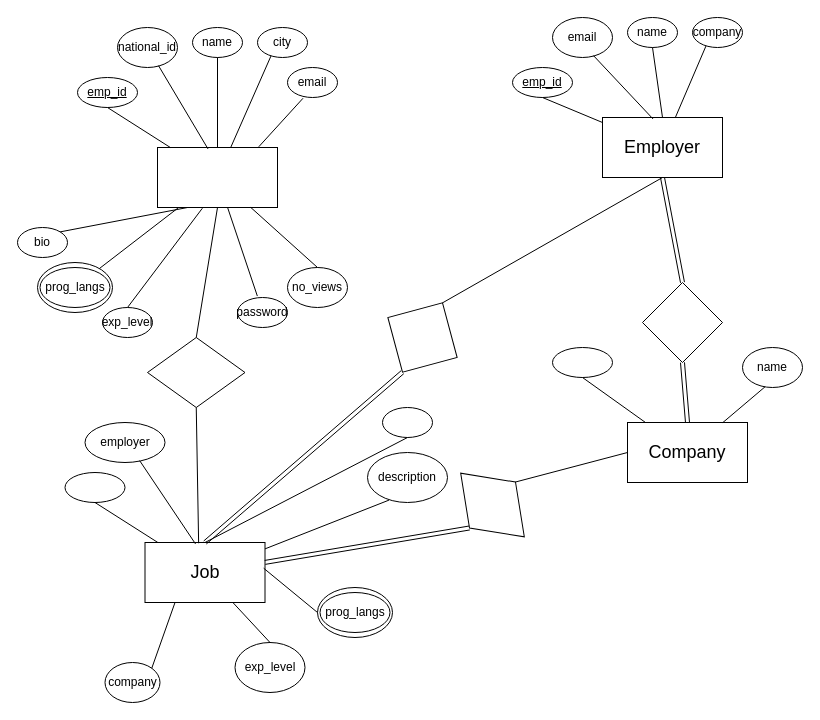
The diagram is 820 pixels wide and 720 high, and some of its shapes have lost their labels. The box of each missing label's shape, as (x1, y1, x2, y2) in pixels:
apply for: (146, 336, 245, 408)
comp_id: (552, 346, 612, 378)
Employee: (156, 146, 278, 208)
job_id: (64, 472, 125, 502)
offers a: (436, 449, 548, 560)
posts: (367, 282, 477, 392)
title: (382, 406, 432, 438)
works for: (642, 282, 722, 362)
